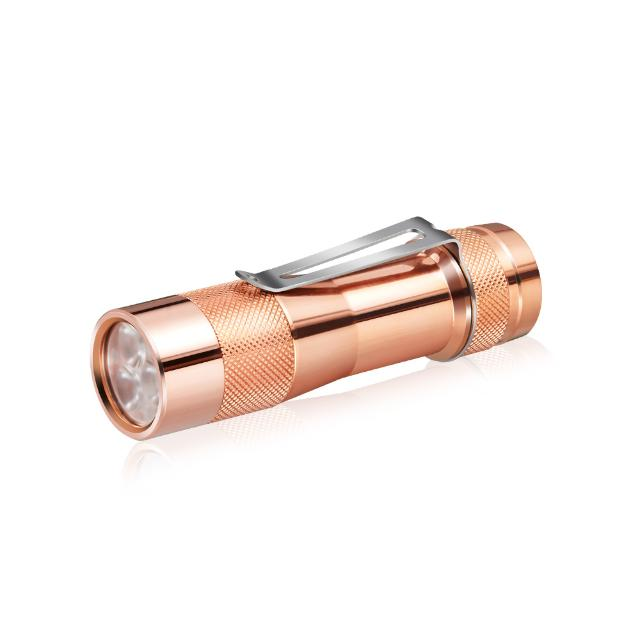Flashlight: (83, 202, 550, 443)
